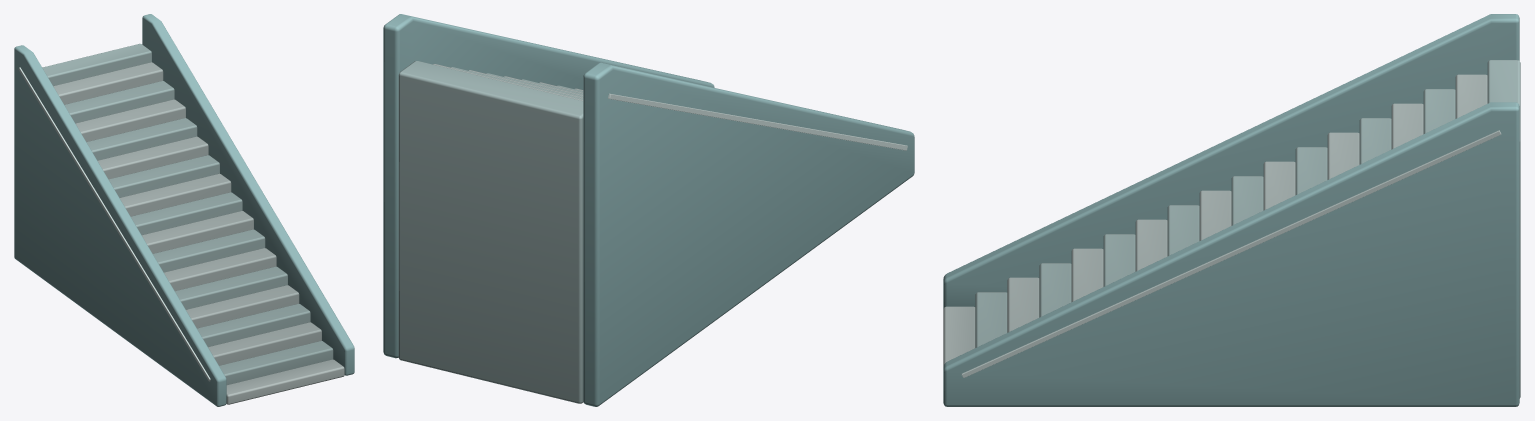
File: stair_hi.glb
3 renders of one model, left to right at view 1: azimuth 30°, elevation 25°; view 2: azimuth 150°, elevation 25°; view 3: azimuth 270°, elevation 25°, orthographic. The views are drawn at different scales.
Parts seen in each view (by area): view 1: stair_hi; view 2: stair_hi; view 3: stair_hi.
Part boxes in pixels (box(x1,y1,x2,y2)): stair_hi: box(14, 14, 354, 406); stair_hi: box(383, 14, 914, 406); stair_hi: box(943, 14, 1520, 406).
Size of the model in its own units: 4.79 by 6.9 by 12.02.
